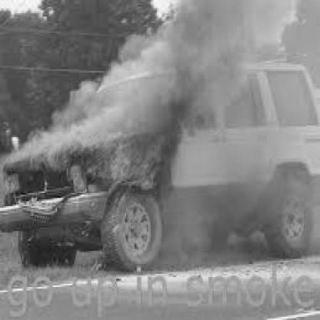Smoke: (177, 2, 259, 74)
